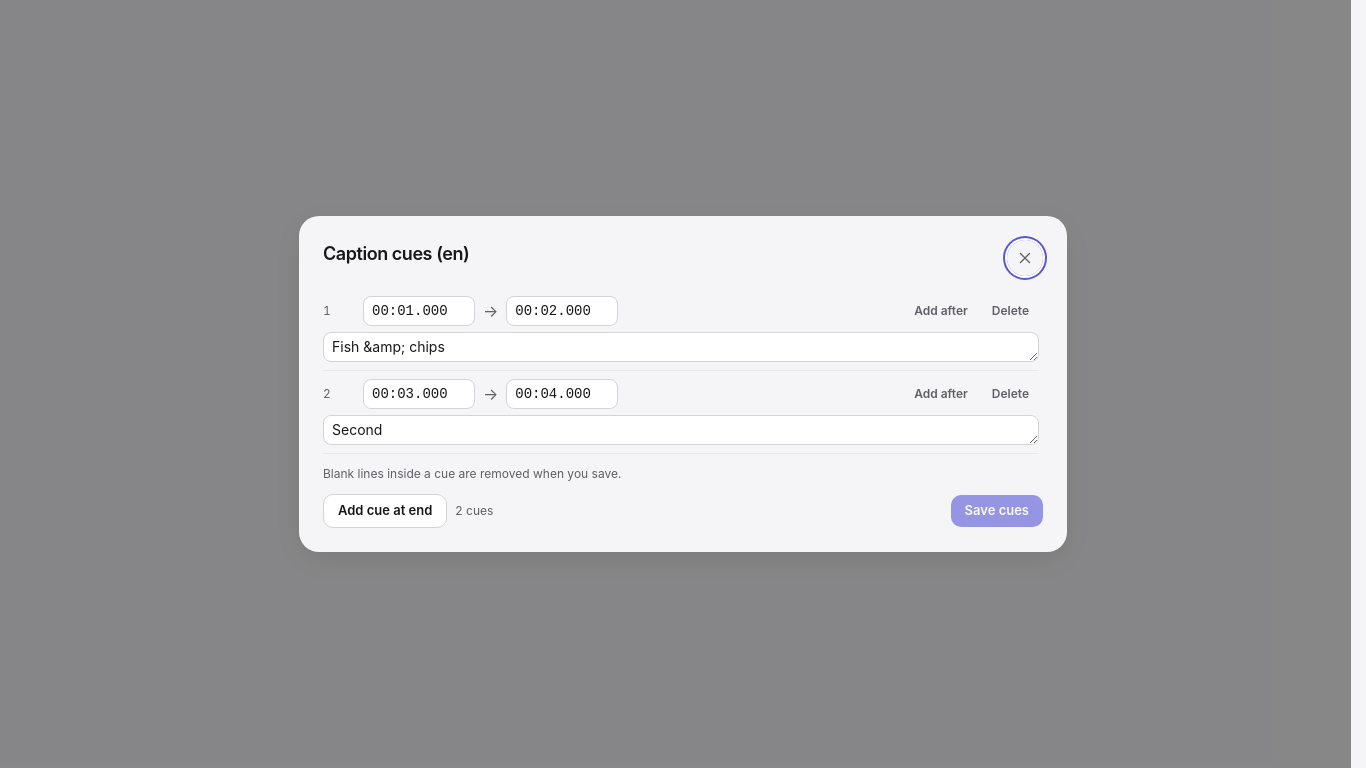
Test: CaptionCueEditor › blocks saving while a cue starts after it ends
The image size is (1366, 768).
Step 1. Replace the text in the field named "Cue 1 start" with "00:05.000" → (419, 311), box [363,296,475,326]
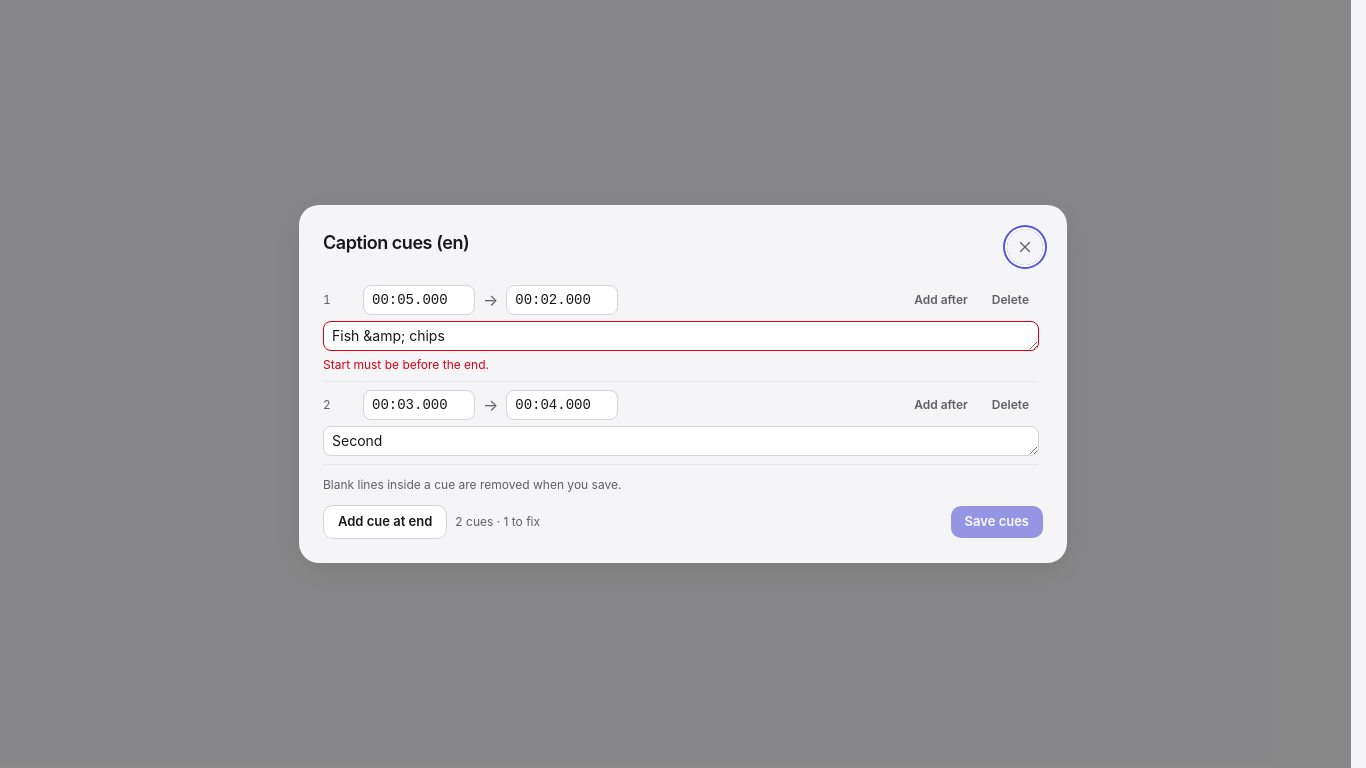
Expected: the button "Save cues" is disabled, [951,506,1043,538]
Result: the text "Start must be before the end." is shown at [323,357,489,372]
